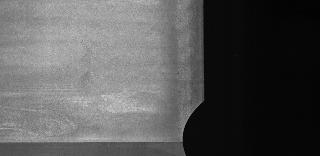welding line: (2, 136, 190, 148)
